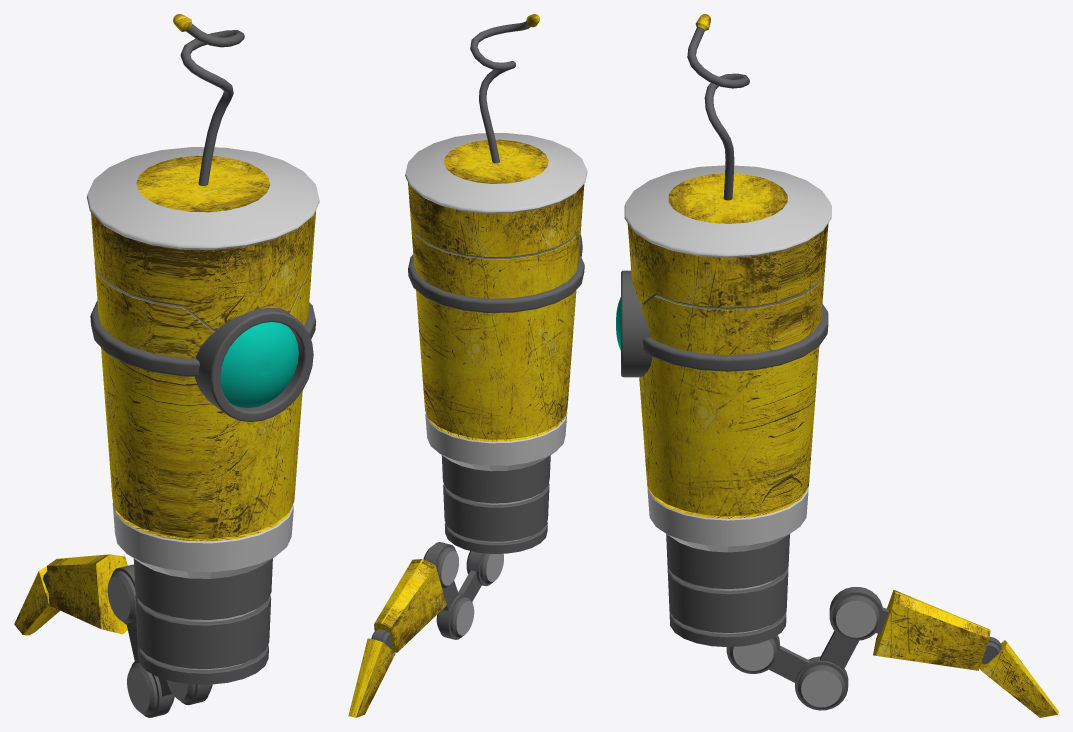
The model's file is spider.fbx.
3 views of the same model, side by side, from view 1: azimuth 30°, elevation 25°; view 2: azimuth 150°, elevation 25°; view 3: azimuth 270°, elevation 25° (orthographic). The views are drawn at different scales.
Parts seen in each view (by area): view 1: head1, bottom, c1, antenna, b1, d1, a1; view 2: head1, bottom, c1, d1, antenna, b1, a1; view 3: head1, bottom, c1, b1, d1, antenna, a1.
Part boxes in pixels (box(x1,y1,x2,y2)): head1: box(86, 147, 319, 578); bottom: box(133, 558, 272, 684); c1: box(47, 554, 136, 634); antenna: box(173, 14, 244, 185); b1: box(127, 624, 174, 717); d1: box(14, 566, 59, 635); a1: box(158, 677, 212, 705); head1: box(405, 133, 587, 471); bottom: box(441, 455, 550, 553); c1: box(374, 542, 458, 652); d1: box(348, 629, 395, 717); antenna: box(470, 14, 539, 163); b1: box(436, 580, 474, 639); a1: box(458, 551, 503, 601); head1: box(616, 165, 831, 552); bottom: box(666, 534, 789, 647); c1: box(829, 587, 990, 670); b1: box(795, 631, 858, 710); d1: box(979, 636, 1058, 717); antenna: box(687, 14, 749, 200); a1: box(726, 635, 809, 682).
Size of the model in its own units: 7.81 by 28.27 by 16.54.
